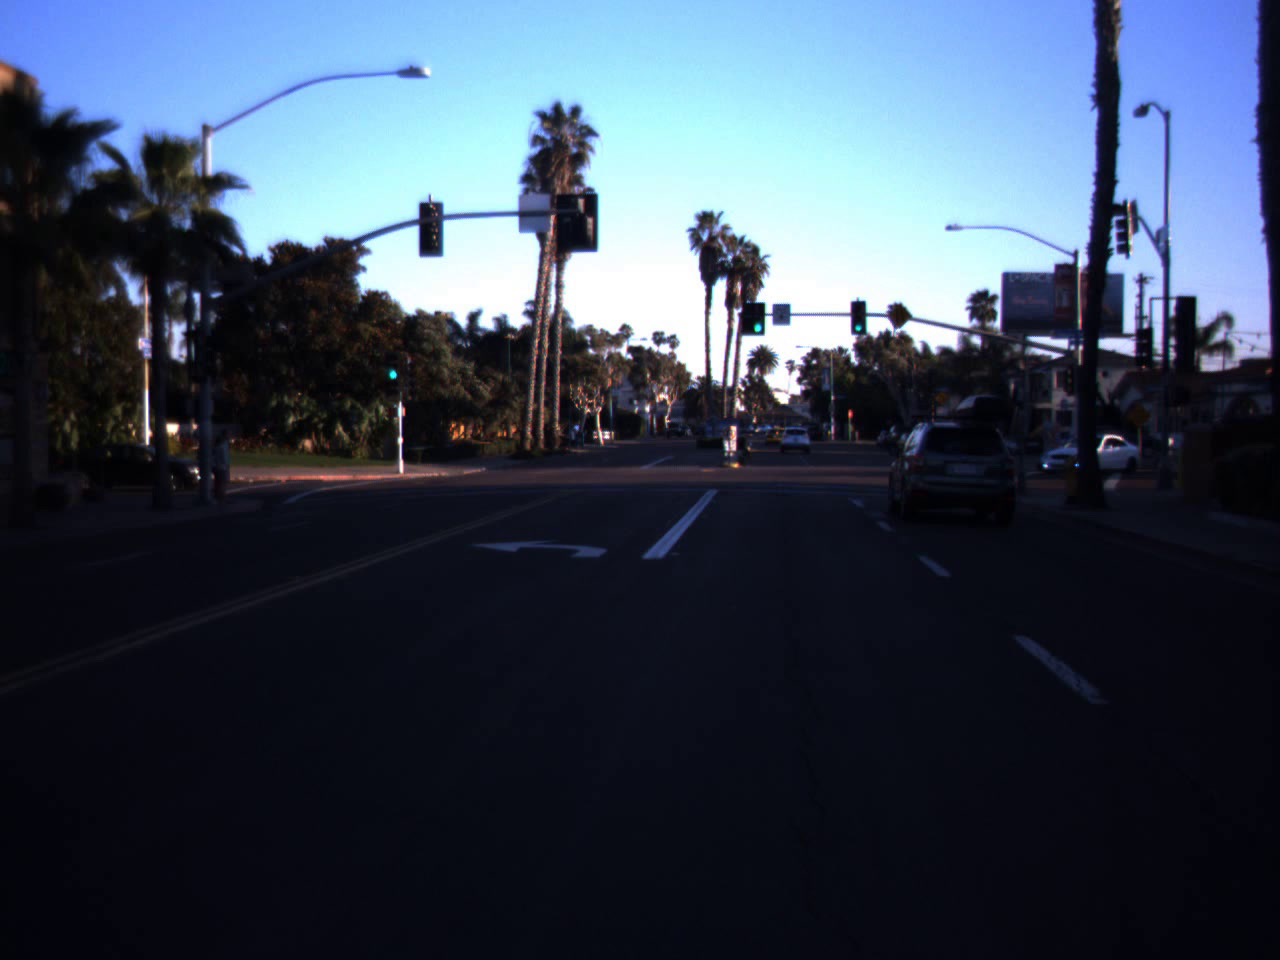go: (384, 346, 402, 381), (752, 304, 764, 334), (852, 312, 864, 332)
